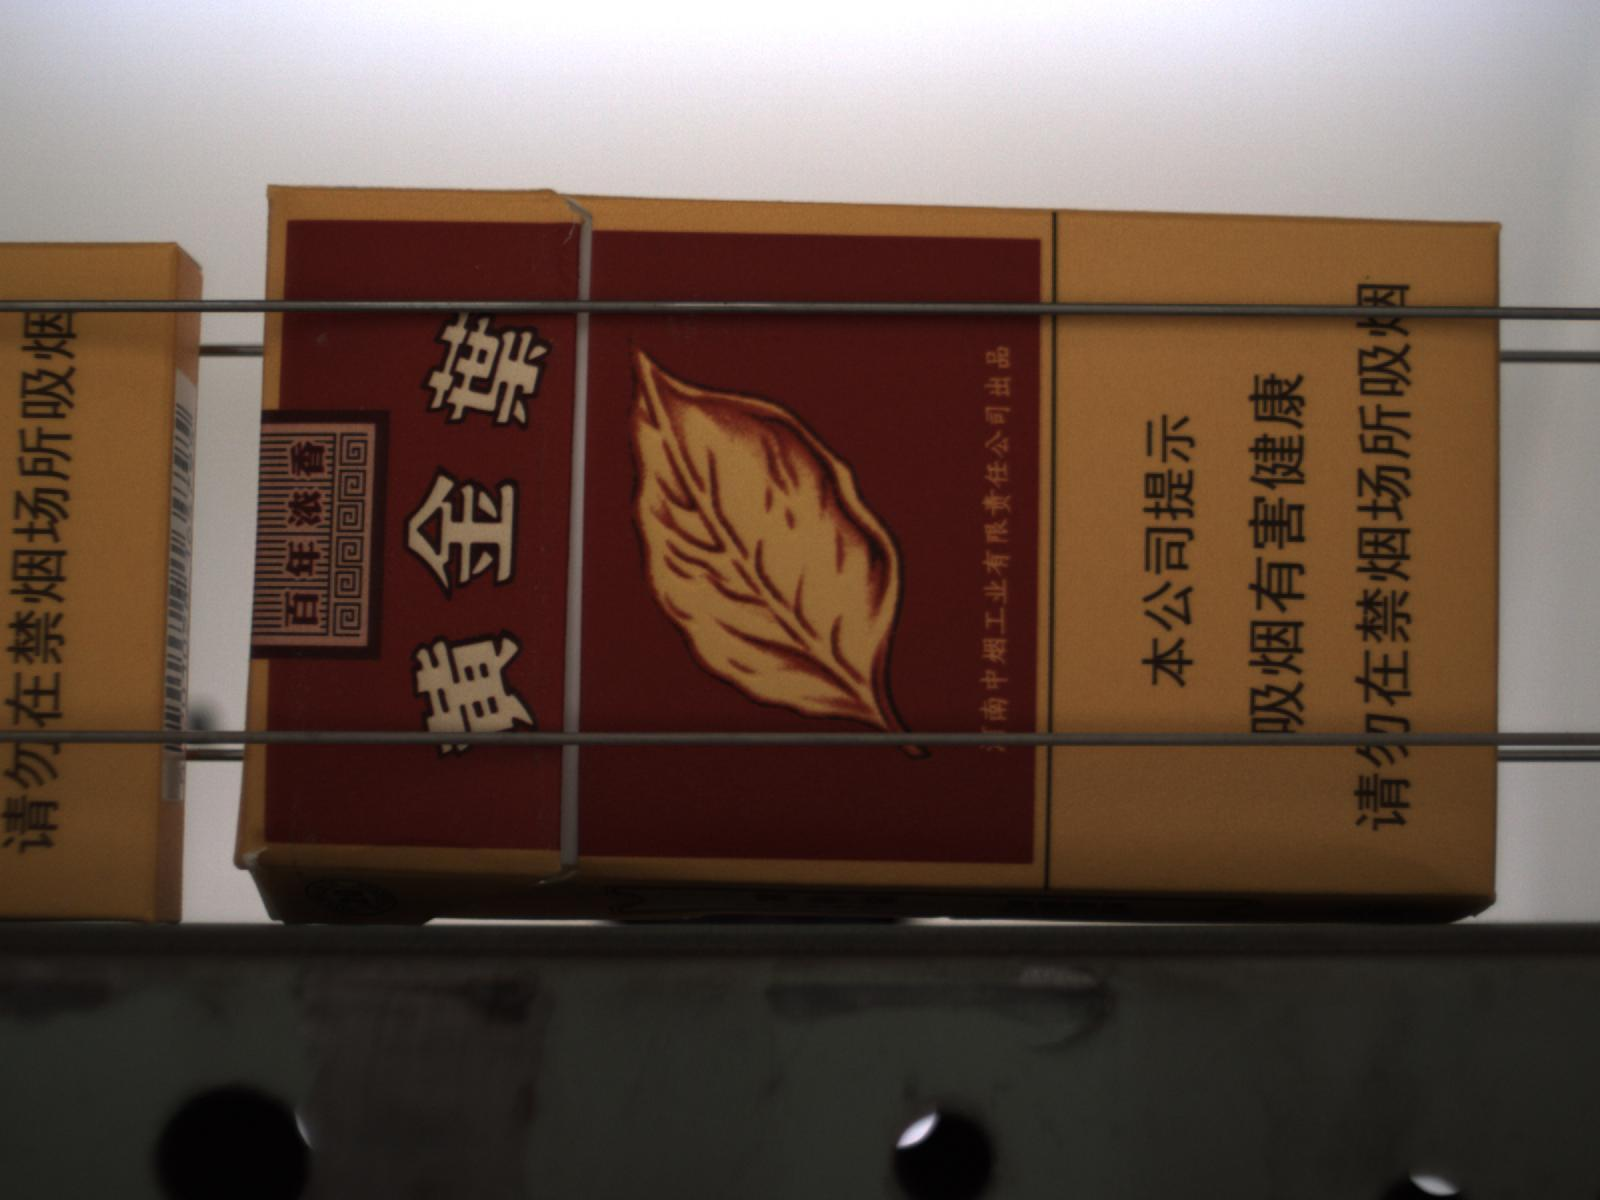dirtyPrint: (317, 334, 328, 344), (472, 263, 481, 274)
frame: (236, 866, 558, 926)
skewed_upper_0: (229, 836, 273, 877)
